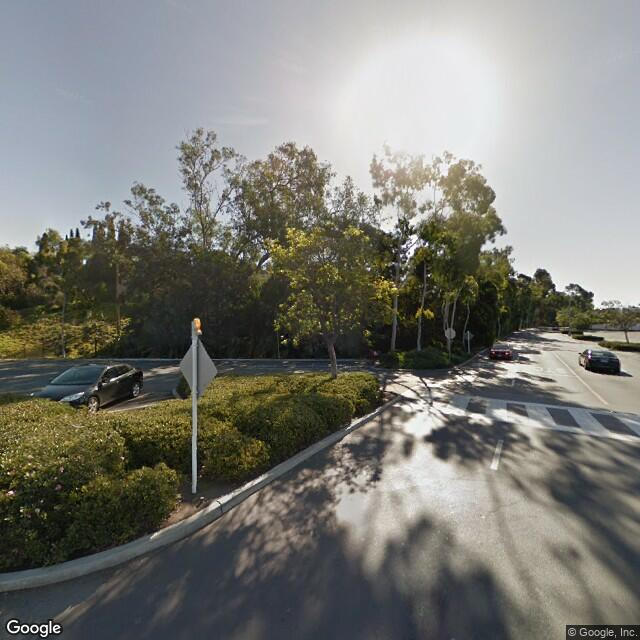litter: (175, 493, 186, 504), (198, 496, 208, 501)
